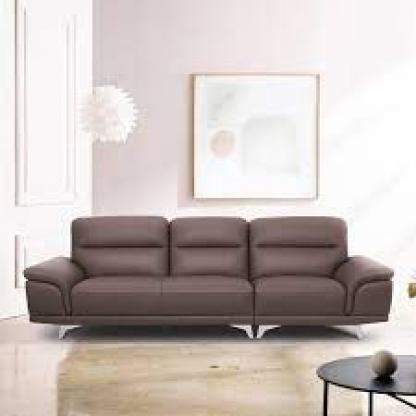sofa: (26, 212, 396, 326)
